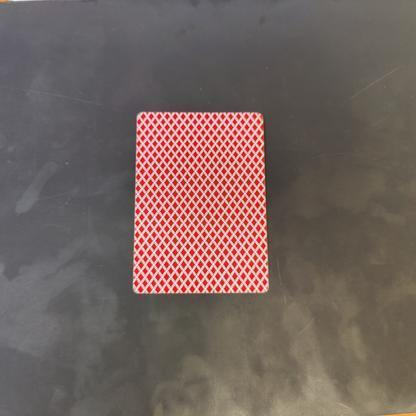card: (124, 104, 275, 302)
